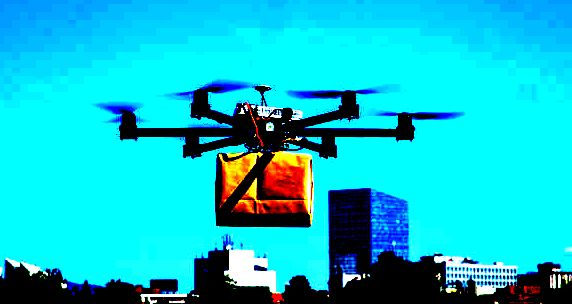Drone: (89, 69, 468, 163)
